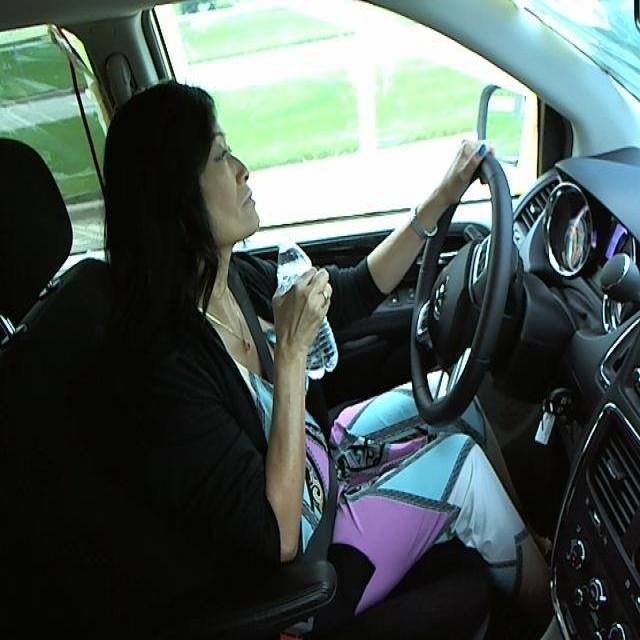drinking: (272, 228, 342, 380)
